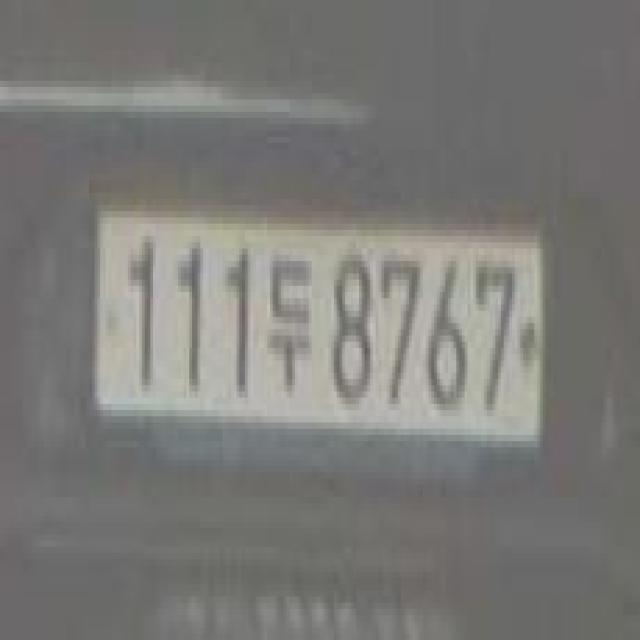illegal_plate: (86, 188, 547, 496)
